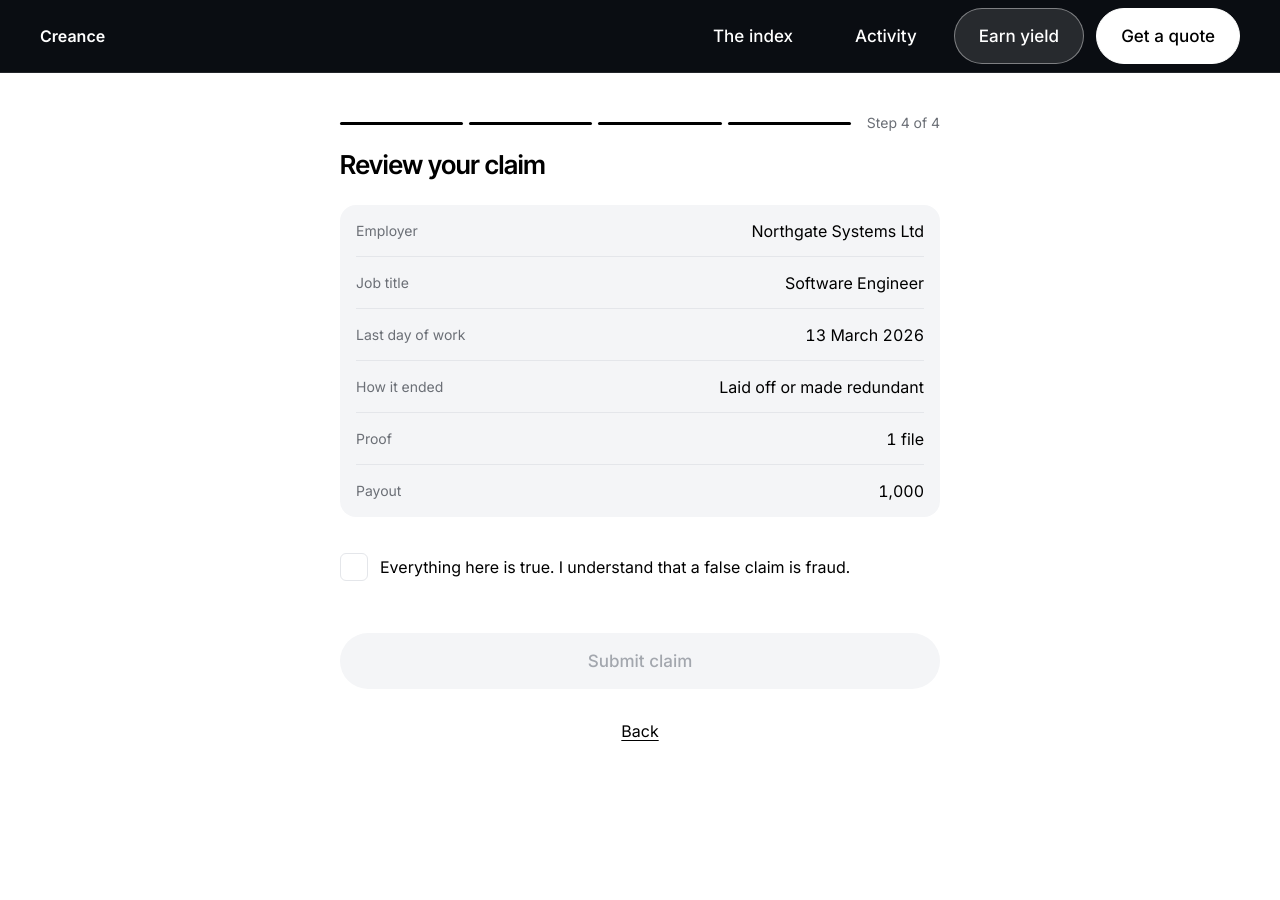
Test: C5, review and submit › takes the button away when another press cannot work
Click the checkbox at (595, 567), box [340,553,850,581]
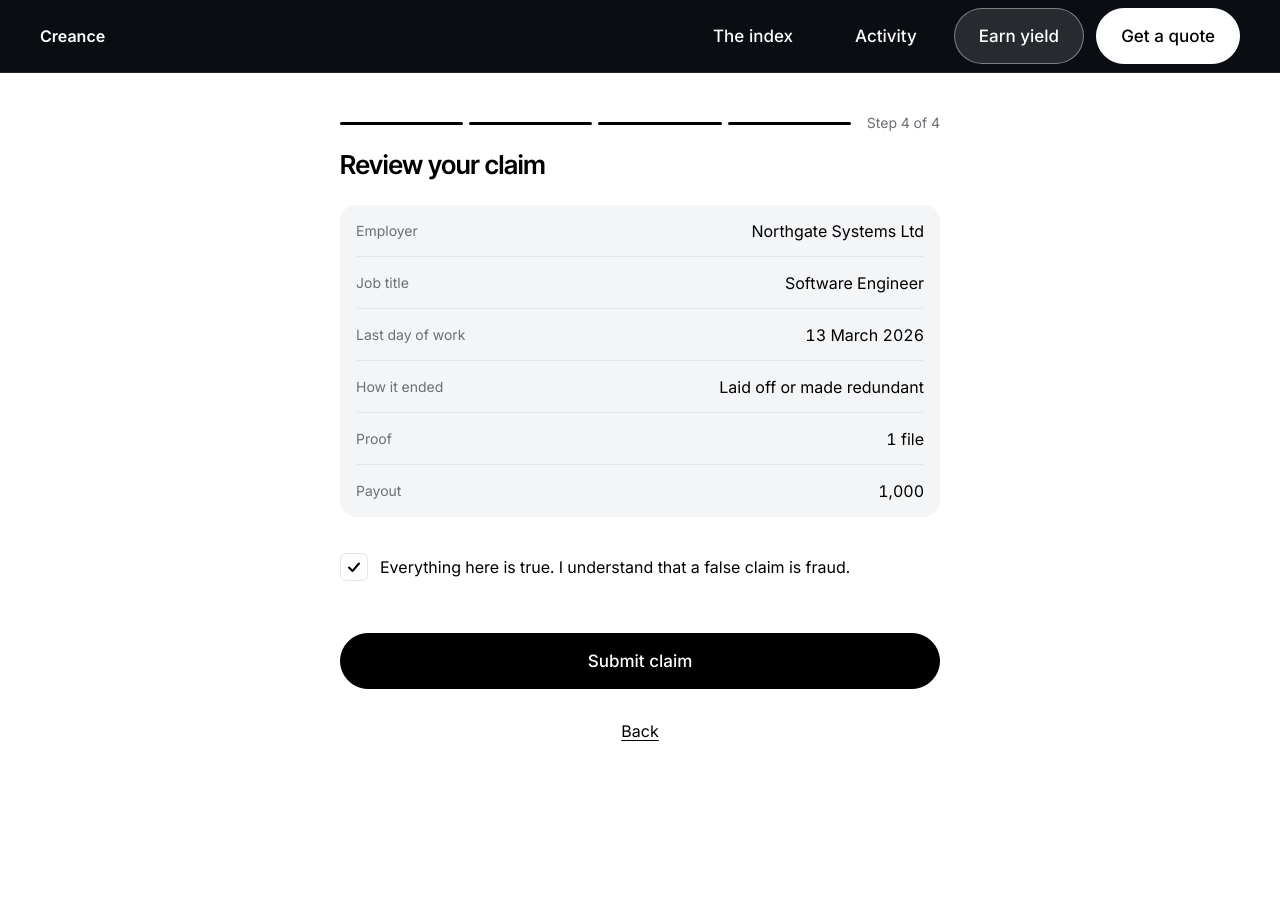
Click the button "Submit claim" at (640, 661), box [340,633,940,689]
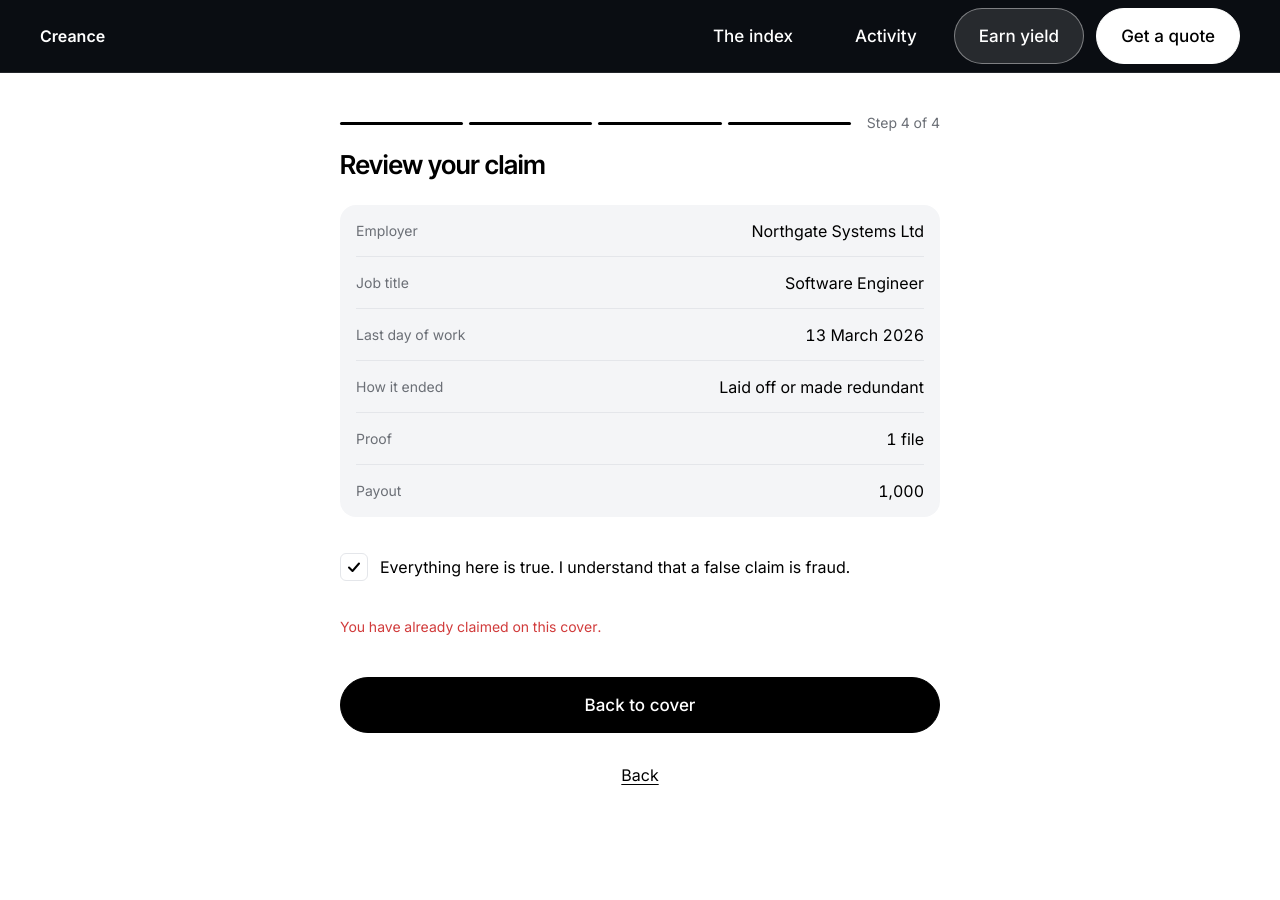
Now the text "You have already claimed on this cover." is shown, box [340,618,601,635]
Now the button "Back to cover" is shown, box [340,677,940,733]
Now the button "Submit claim" is gone
